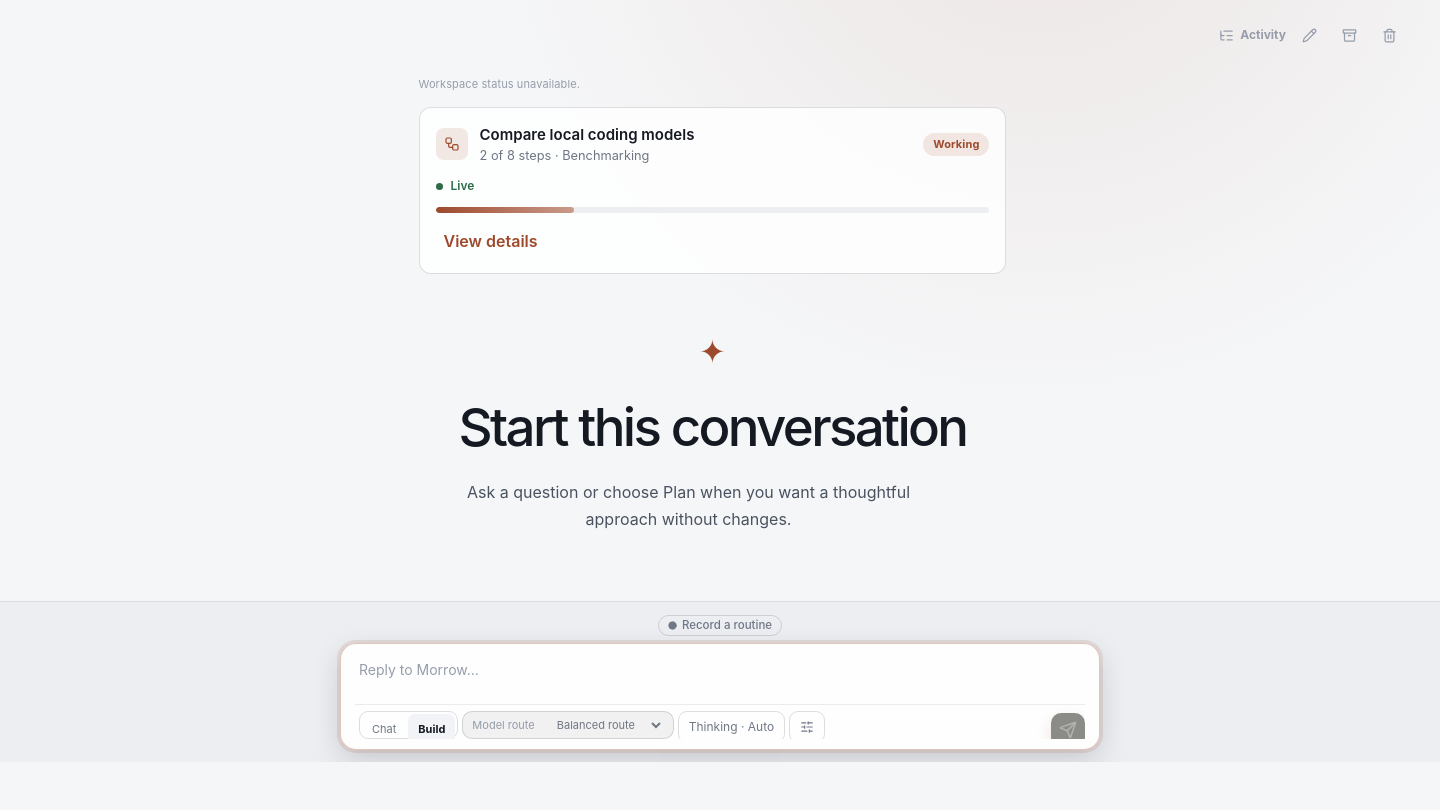
Test case: mission inside a conversation — live › shows the linked mission card, goes Live on connect, and reveals the snapshot panel
Expected: the text "Compare local coding models" is shown, [480,124,694,144]
Expected: the text "Live" is shown, [436,178,474,193]
Click the button "View details" at (490, 241), box [436,225,546,257]
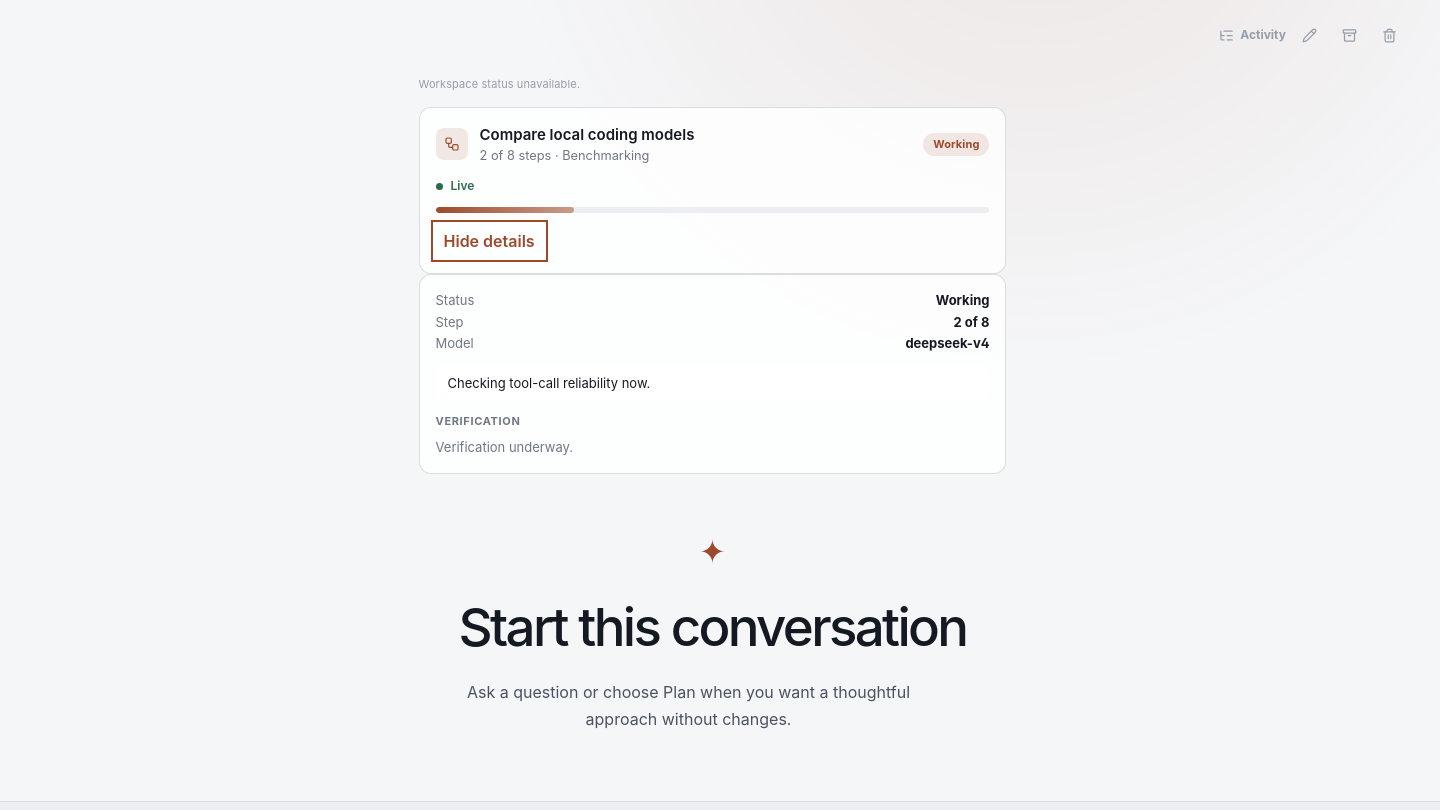
Expected: the text "Checking tool-call reliability now." is shown, [436,366,990,401]
